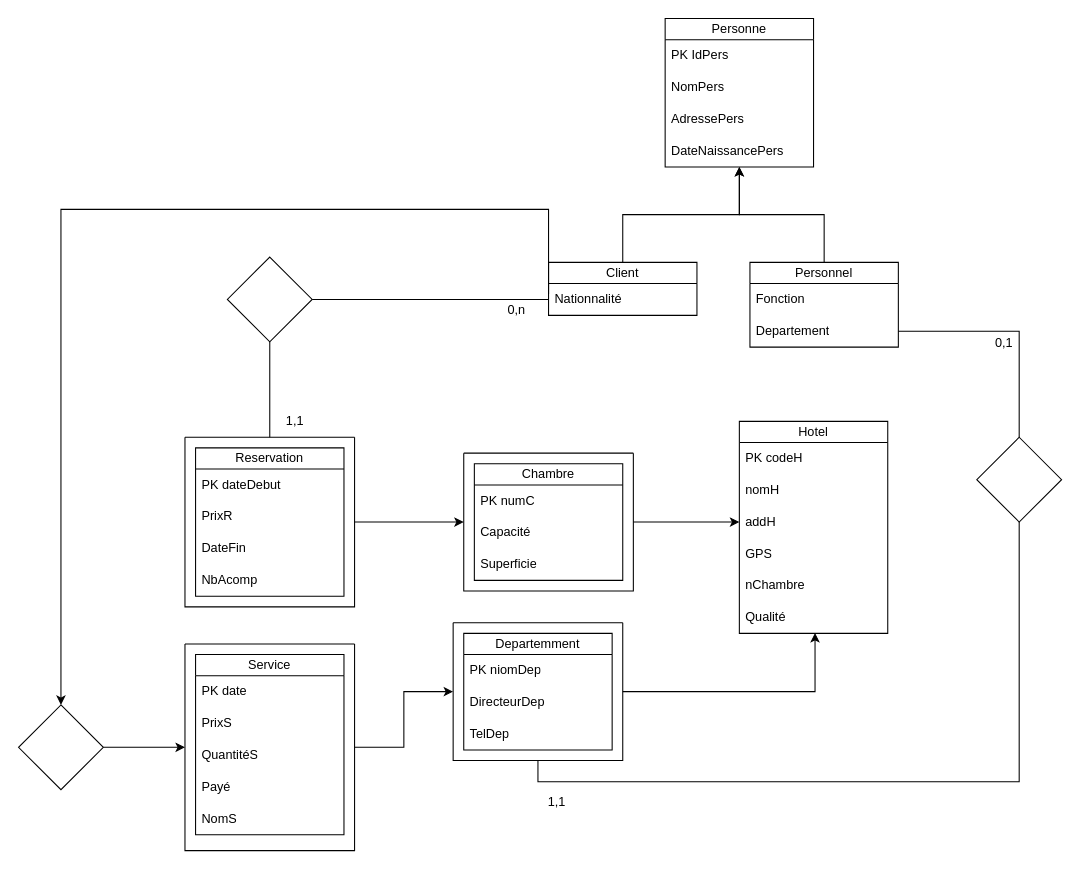
The diagram is 1080 pixels wide and 869 high, and some of its shapes have lost their labels. The centre of each missing label's shape, as x and y in pixels:
Commande: the point at 60,747
Dirige: the point at 1019,479
Reserve: the point at 269,299
